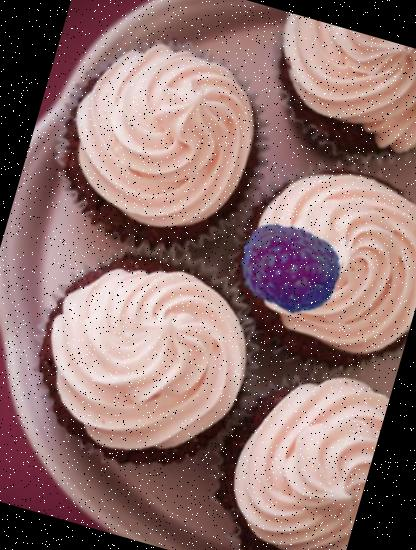Raspberry: (225, 201, 354, 330)
